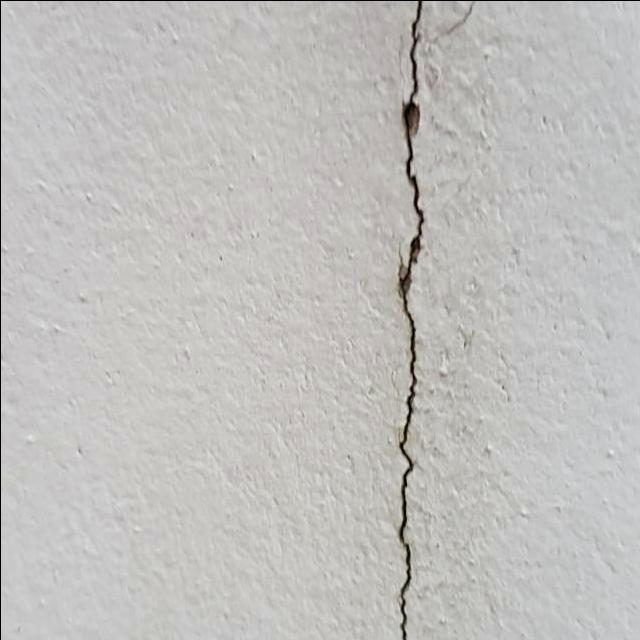SurfaceCrack: (349, 1, 483, 640)
